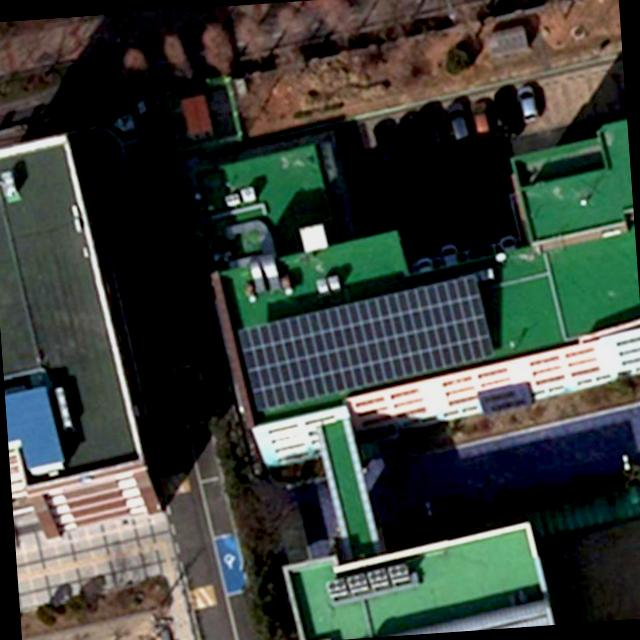solar: (230, 269, 500, 420)
